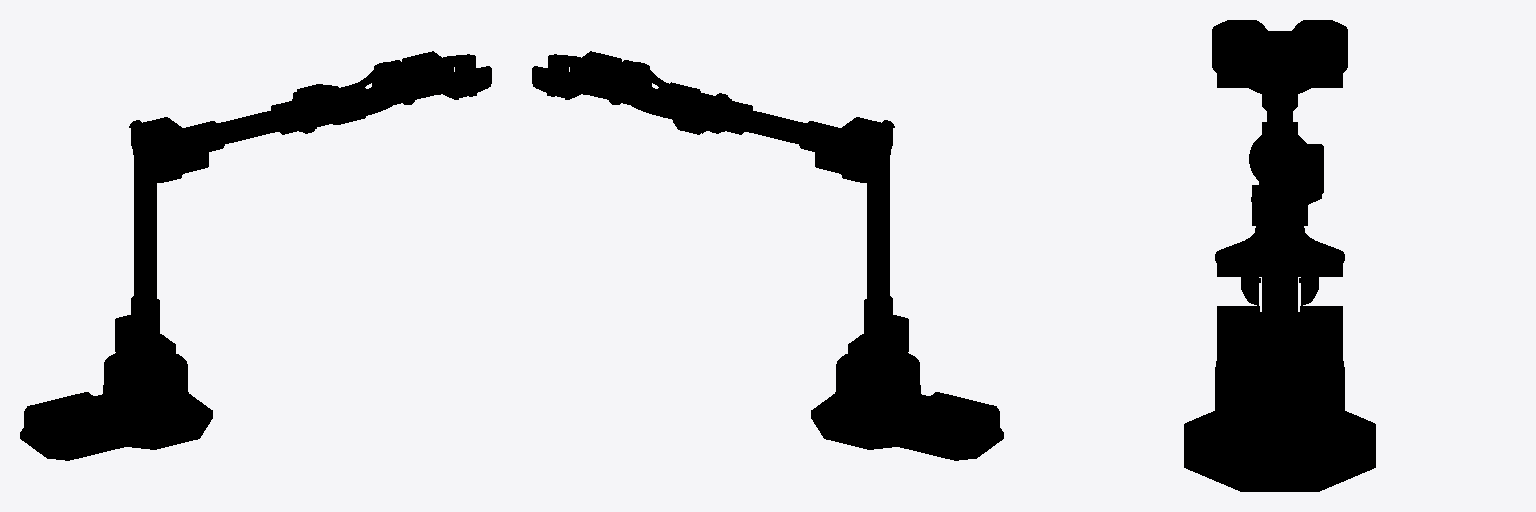
URDF robot description (wx250s):
<robot name="wx250s">
  <material name="interbotix_black">
    <texture filename="package://meshes/interbotix_black.png" />
  </material>
  <link name="wx250s/base_link">
    <visual>
      <origin rpy="0 0 1.5707963267948966" xyz="0 0 0" />
      <geometry>
        <mesh filename="package://meshes/wx250s_meshes/wx250s_1_base.dae" scale="0.001 0.001 0.001" />
      </geometry>
      <material name="interbotix_black" />
    </visual>
    <collision>
      <origin rpy="0 0 1.5707963267948966" xyz="0 0 0" />
      <geometry>
        <mesh filename="package://meshes/wx250s_meshes/wx250s_1_base.dae" scale="0.001 0.001 0.001" />
      </geometry>
    </collision>
    <inertial>
      <origin rpy="0 0 1.5707963267948966" xyz="-0.0380446000 0.0006138920 0.0193354000" />
      <mass value="0.538736" />
      <inertia ixx="0.0021150000" ixy="-0.0000163500" ixz="0.0000006998" iyy="0.0006921000" iyz="0.0000464200" izz="0.0025240000" />
    </inertial>
  </link>
  <joint name="waist" type="revolute">
    <axis xyz="0 0 1" />
    <limit effort="10" lower="-3.141582653589793" upper="3.141582653589793" velocity="3.141592653589793" />
    <origin rpy="0 0 0" xyz="0 0 0.072" />
    <parent link="wx250s/base_link" />
    <child link="wx250s/shoulder_link" />
    <dynamics friction="0.1" />
  </joint>
  <transmission name="trans_waist">
    <type>transmission_interface/SimpleTransmission</type>
    <joint name="waist">
      <hardwareInterface>hardware_interface/EffortJointInterface</hardwareInterface>
    </joint>
    <actuator name="waist_motor">
      <mechanicalReduction>1</mechanicalReduction>
    </actuator>
  </transmission>
  <link name="wx250s/shoulder_link">
    <visual>
      <origin rpy="0 0 1.5707963267948966" xyz="0 0 -0.003" />
      <geometry>
        <mesh filename="package://meshes/wx250s_meshes/wx250s_2_shoulder.dae" scale="0.001 0.001 0.001" />
      </geometry>
      <material name="interbotix_black" />
    </visual>
    <collision>
      <origin rpy="0 0 1.5707963267948966" xyz="0 0 -0.003" />
      <geometry>
        <mesh filename="package://meshes/wx250s_meshes/wx250s_2_shoulder.dae" scale="0.001 0.001 0.001" />
      </geometry>
    </collision>
    <inertial>
      <origin rpy="0 0 1.5707963267948966" xyz="0.0000223482 0.0000414609 0.0066287000" />
      <mass value="0.480879" />
      <inertia ixx="0.0003790000" ixy="0.0000000022" ixz="-0.0000003561" iyy="0.0005557000" iyz="0.0000012245" izz="0.0005889000" />
    </inertial>
  </link>
  <joint name="shoulder" type="revolute">
    <axis xyz="0 1 0" />
    <limit effort="20" lower="-1.8849555921538759" upper="1.9896753472735358" velocity="3.141592653589793" />
    <origin rpy="0 0 0" xyz="0 0 0.03865" />
    <parent link="wx250s/shoulder_link" />
    <child link="wx250s/upper_arm_link" />
    <dynamics friction="0.1" />
  </joint>
  <transmission name="trans_shoulder">
    <type>transmission_interface/SimpleTransmission</type>
    <joint name="shoulder">
      <hardwareInterface>hardware_interface/EffortJointInterface</hardwareInterface>
    </joint>
    <actuator name="shoulder_motor">
      <mechanicalReduction>1</mechanicalReduction>
    </actuator>
  </transmission>
  <link name="wx250s/upper_arm_link">
    <visual>
      <origin rpy="0 0 1.5707963267948966" xyz="0 0 0" />
      <geometry>
        <mesh filename="package://meshes/wx250s_meshes/wx250s_3_upper_arm.dae" scale="0.001 0.001 0.001" />
      </geometry>
      <material name="interbotix_black" />
    </visual>
    <collision>
      <origin rpy="0 0 1.5707963267948966" xyz="0 0 0" />
      <geometry>
        <mesh filename="package://meshes/wx250s_meshes/wx250s_3_upper_arm.dae" scale="0.001 0.001 0.001" />
      </geometry>
    </collision>
    <inertial>
      <origin rpy="0 0 1.5707963267948966" xyz="0.0171605000 0.0000002725 0.1913230000" />
      <mass value="0.430811" />
      <inertia ixx="0.0034630000" ixy="-0.0000000001" ixz="-0.0000000002" iyy="0.0035870000" iyz="0.0004272000" izz="0.0004566000" />
    </inertial>
  </link>
  <joint name="elbow" type="revolute">
    <axis xyz="0 1 0" />
    <limit effort="15" lower="-2.1467549799530254" upper="1.6057029118347832" velocity="3.141592653589793" />
    <origin rpy="0 0 0" xyz="0.04975 0 0.25" />
    <parent link="wx250s/upper_arm_link" />
    <child link="wx250s/upper_forearm_link" />
    <dynamics friction="0.1" />
  </joint>
  <transmission name="trans_elbow">
    <type>transmission_interface/SimpleTransmission</type>
    <joint name="elbow">
      <hardwareInterface>hardware_interface/EffortJointInterface</hardwareInterface>
    </joint>
    <actuator name="elbow_motor">
      <mechanicalReduction>1</mechanicalReduction>
    </actuator>
  </transmission>
  <link name="wx250s/upper_forearm_link">
    <visual>
      <origin rpy="0 0 0" xyz="0 0 0" />
      <geometry>
        <mesh filename="package://meshes/wx250s_meshes/wx250s_4_upper_forearm.dae" scale="0.001 0.001 0.001" />
      </geometry>
      <material name="interbotix_black" />
    </visual>
    <collision>
      <origin rpy="0 0 0" xyz="0 0 0" />
      <geometry>
        <mesh filename="package://meshes/wx250s_meshes/wx250s_4_upper_forearm.dae" scale="0.001 0.001 0.001" />
      </geometry>
    </collision>
    <inertial>
      <origin rpy="0 0 0" xyz="0.1079630000 0.0001158760 0" />
      <mass value="0.234589" />
      <inertia ixx="0.0000397100" ixy="0.0000023528" ixz="0" iyy="0.0008878000" iyz="0" izz="0.0008880000" />
    </inertial>
  </link>
  <joint name="forearm_roll" type="revolute">
    <axis xyz="1 0 0" />
    <limit effort="2" lower="-3.141582653589793" upper="3.141582653589793" velocity="3.141592653589793" />
    <origin rpy="0 0 0" xyz="0.175 0 0" />
    <parent link="wx250s/upper_forearm_link" />
    <child link="wx250s/lower_forearm_link" />
    <dynamics friction="0.1" />
  </joint>
  <transmission name="trans_forearm_roll">
    <type>transmission_interface/SimpleTransmission</type>
    <joint name="forearm_roll">
      <hardwareInterface>hardware_interface/EffortJointInterface</hardwareInterface>
    </joint>
    <actuator name="forearm_roll_motor">
      <mechanicalReduction>1</mechanicalReduction>
    </actuator>
  </transmission>
  <link name="wx250s/lower_forearm_link">
    <visual>
      <origin rpy="3.141592653589793 0 0" xyz="0 0 0" />
      <geometry>
        <mesh filename="package://meshes/wx250s_meshes/wx250s_5_lower_forearm.dae" scale="0.001 0.001 0.001" />
      </geometry>
      <material name="interbotix_black" />
    </visual>
    <collision>
      <origin rpy="3.141592653589793 0 0" xyz="0 0 0" />
      <geometry>
        <mesh filename="package://meshes/wx250s_meshes/wx250s_5_lower_forearm.dae" scale="0.001 0.001 0.001" />
      </geometry>
    </collision>
    <inertial>
      <origin rpy="3.141592653589793 0 0" xyz="0.0374395000 0.0052225200 0" />
      <mass value="0.220991" />
      <inertia ixx="0.0000636900" ixy="-0.0000229200" ixz="0" iyy="0.0001677000" iyz="0" izz="0.0001834000" />
    </inertial>
  </link>
  <joint name="wrist_angle" type="revolute">
    <axis xyz="0 1 0" />
    <limit effort="5" lower="-1.7453292519943295" upper="2.1467549799530254" velocity="3.141592653589793" />
    <origin rpy="0 0 0" xyz="0.075 0 0" />
    <parent link="wx250s/lower_forearm_link" />
    <child link="wx250s/wrist_link" />
    <dynamics friction="0.1" />
  </joint>
  <transmission name="trans_wrist_angle">
    <type>transmission_interface/SimpleTransmission</type>
    <joint name="wrist_angle">
      <hardwareInterface>hardware_interface/EffortJointInterface</hardwareInterface>
    </joint>
    <actuator name="wrist_angle_motor">
      <mechanicalReduction>1</mechanicalReduction>
    </actuator>
  </transmission>
  <link name="wx250s/wrist_link">
    <visual>
      <origin rpy="0 0 1.5707963267948966" xyz="0 0 0" />
      <geometry>
        <mesh filename="package://meshes/wx250s_meshes/wx250s_6_wrist.dae" scale="0.001 0.001 0.001" />
      </geometry>
      <material name="interbotix_black" />
    </visual>
    <collision>
      <origin rpy="0 0 1.5707963267948966" xyz="0 0 0" />
      <geometry>
        <mesh filename="package://meshes/wx250s_meshes/wx250s_6_wrist.dae" scale="0.001 0.001 0.001" />
      </geometry>
    </collision>
    <inertial>
      <origin rpy="0 0 1.5707963267948966" xyz="0.0423600000 -0.0000106630 0.0105770000" />
      <mass value="0.084957" />
      <inertia ixx="0.0000308200" ixy="0.0000000191" ixz="0.0000000023" iyy="0.0000282200" iyz="0.0000025481" izz="0.0000315200" />
    </inertial>
  </link>
  <joint name="wrist_rotate" type="revolute">
    <axis xyz="1 0 0" />
    <limit effort="1" lower="-3.141582653589793" upper="3.141582653589793" velocity="3.141592653589793" />
    <origin rpy="0 0 0" xyz="0.065 0 0" />
    <parent link="wx250s/wrist_link" />
    <child link="wx250s/gripper_link" />
    <dynamics friction="0.1" />
  </joint>
  <transmission name="trans_wrist_rotate">
    <type>transmission_interface/SimpleTransmission</type>
    <joint name="wrist_rotate">
      <hardwareInterface>hardware_interface/EffortJointInterface</hardwareInterface>
    </joint>
    <actuator name="wrist_rotate_motor">
      <mechanicalReduction>1</mechanicalReduction>
    </actuator>
  </transmission>
  <link name="wx250s/gripper_link">
    <visual>
      <origin rpy="0 0 1.5707963267948966" xyz="-0.02 0 0" />
      <geometry>
        <mesh filename="package://meshes/wx250s_meshes/wx250s_7_gripper.dae" scale="0.001 0.001 0.001" />
      </geometry>
      <material name="interbotix_black" />
    </visual>
    <collision>
      <origin rpy="0 0 1.5707963267948966" xyz="-0.02 0 0" />
      <geometry>
        <mesh filename="package://meshes/wx250s_meshes/wx250s_7_gripper.dae" scale="0.001 0.001 0.001" />
      </geometry>
    </collision>
    <inertial>
      <origin rpy="0 0 1.5707963267948966" xyz="0.0216310000 0.0000002516 0.0114100000" />
      <mass value="0.072885" />
      <inertia ixx="0.0000253700" ixy="0.0000000000" ixz="0.0000000000" iyy="0.0000183600" iyz="0.0000004340" izz="0.0000167400" />
    </inertial>
  </link>
  <joint name="ee_arm" type="fixed">
    <axis xyz="1 0 0" />
    <origin rpy="0 0 0" xyz="0.043 0 0" />
    <parent link="wx250s/gripper_link" />
    <child link="wx250s/ee_arm_link" />
  </joint>
  <link name="wx250s/ee_arm_link">
    <inertial>
      <mass value="0.001" />
      <inertia ixx="0.001" ixy="0" ixz="0" iyy="0.001" iyz="0" izz="0.001" />
    </inertial>
  </link>
  <joint name="gripper" type="continuous">
    <axis xyz="1 0 0" />
    <limit effort="1" velocity="3.141592653589793" />
    <origin rpy="0 0 0" xyz="0.0055 0 0" />
    <parent link="wx250s/ee_arm_link" />
    <child link="wx250s/gripper_prop_link" />
    <dynamics friction="0.1" />
  </joint>
  <transmission name="trans_gripper">
    <type>transmission_interface/SimpleTransmission</type>
    <joint name="gripper">
      <hardwareInterface>hardware_interface/EffortJointInterface</hardwareInterface>
    </joint>
    <actuator name="gripper_motor">
      <mechanicalReduction>1</mechanicalReduction>
    </actuator>
  </transmission>
  <link name="wx250s/gripper_prop_link">
    <visual>
      <origin rpy="0 0 1.5707963267948966" xyz="-0.0685 0 0" />
      <geometry>
        <mesh filename="package://meshes/wx250s_meshes/wx250s_8_gripper_prop.dae" scale="0.001 0.001 0.001" />
      </geometry>
      <material name="interbotix_black" />
    </visual>
    <collision>
      <origin rpy="0 0 1.5707963267948966" xyz="-0.0685 0 0" />
      <geometry>
        <mesh filename="package://meshes/wx250s_meshes/wx250s_8_gripper_prop.dae" scale="0.001 0.001 0.001" />
      </geometry>
    </collision>
    <inertial>
      <origin rpy="0 0 1.5707963267948966" xyz="0.0008460000 -0.0000016817 0.0000420000" />
      <mass value="0.00434" />
      <inertia ixx="0.0000005923" ixy="0.0000000000" ixz="0.0000003195" iyy="0.0000011156" iyz="-0.0000000004" izz="0.0000005743" />
    </inertial>
  </link>
  
  
  <joint name="gripper_bar" type="fixed">
    <axis xyz="1 0 0" />
    <origin rpy="0 0 0" xyz="0 0 0" />
    <parent link="wx250s/ee_arm_link" />
    <child link="wx250s/gripper_bar_link" />
  </joint>
  <link name="wx250s/gripper_bar_link">
    <visual>
      <origin rpy="0 0 1.5707963267948966" xyz="-0.063 0 0" />
      <geometry>
        <mesh filename="package://meshes/wx250s_meshes/wx250s_9_gripper_bar.dae" scale="0.001 0.001 0.001" />
      </geometry>
      <material name="interbotix_black" />
    </visual>
    <collision>
      <origin rpy="0 0 1.5707963267948966" xyz="-0.063 0 0" />
      <geometry>
        <mesh filename="package://meshes/wx250s_meshes/wx250s_9_gripper_bar.dae" scale="0.001 0.001 0.001" />
      </geometry>
    </collision>
    <inertial>
      <origin rpy="0 0 1.5707963267948966" xyz="0.0096870000 0.0000008177 0.0049620000" />
      <mass value="0.034199" />
      <inertia ixx="0.0000074125" ixy="-0.0000000008" ixz="-0.0000000006" iyy="0.0000284300" iyz="-0.0000013889" izz="0.0000286000" />
    </inertial>
  </link>
  <joint name="ee_bar" type="fixed">
    <axis xyz="1 0 0" />
    <origin rpy="0 0 0" xyz="0.023 0 0" />
    <parent link="wx250s/gripper_bar_link" />
    <child link="wx250s/fingers_link" />
  </joint>
  <link name="wx250s/fingers_link">
    <inertial>
      <mass value="0.001" />
      <inertia ixx="0.001" ixy="0" ixz="0" iyy="0.001" iyz="0" izz="0.001" />
    </inertial>
  </link>
  
  <joint name="left_finger" type="prismatic">
    <axis xyz="0 1 0" />
    <limit effort="5" lower="0.015" upper="0.037" velocity="1" />
    <origin rpy="0 0 0" xyz="0 0 0" />
    <parent link="wx250s/fingers_link" />
    <child link="wx250s/left_finger_link" />
    <dynamics friction="0.1" />
  </joint>
  <transmission name="trans_left_finger">
    <type>transmission_interface/SimpleTransmission</type>
    <joint name="left_finger">
      <hardwareInterface>hardware_interface/EffortJointInterface</hardwareInterface>
    </joint>
    <actuator name="left_finger_motor">
      <mechanicalReduction>1</mechanicalReduction>
    </actuator>
  </transmission>
  <link name="wx250s/left_finger_link">
    <visual>
      <origin rpy="3.141592653589793 3.141592653589793 0" xyz="0 0.005 0" />
      <geometry>
        <mesh filename="package://meshes/wx250s_meshes/wx250s_10_gripper_finger.dae" scale="0.001 0.001 0.001" />
      </geometry>
      <material name="interbotix_black" />
    </visual>
    <collision>
      <origin rpy="3.141592653589793 3.141592653589793 0" xyz="0 0.005 0" />
      <geometry>
        <mesh filename="package://meshes/wx250s_meshes/wx250s_10_gripper_finger.dae" scale="0.001 0.001 0.001" />
      </geometry>
    </collision>
    <inertial>
      <origin rpy="3.141592653589793 3.141592653589793 1.5707963267948966" xyz="0.0138160000 0.0000000000 0.0000000000" />
      <mass value="0.016246" />
      <inertia ixx="0.0000047310" ixy="-0.0000004560" ixz="0.0000000000" iyy="0.0000015506" iyz="0.0000000000" izz="0.0000037467" />
    </inertial>
  </link>
  <joint name="right_finger" type="prismatic">
    <axis xyz="0 1 0" />
    <limit effort="5" lower="-0.037" upper="-0.015" velocity="1" />
    <origin rpy="0 0 0" xyz="0 0 0" />
    <parent link="wx250s/fingers_link" />
    <child link="wx250s/right_finger_link" />
    <dynamics friction="0.1" />
    <mimic joint="left_finger" multiplier="-1" offset="0" />
  </joint>
  <transmission name="trans_right_finger">
    <type>transmission_interface/SimpleTransmission</type>
    <joint name="right_finger">
      <hardwareInterface>hardware_interface/EffortJointInterface</hardwareInterface>
    </joint>
    <actuator name="right_finger_motor">
      <mechanicalReduction>1</mechanicalReduction>
    </actuator>
  </transmission>
  <link name="wx250s/right_finger_link">
    <visual>
      <origin rpy="0 3.141592653589793 0" xyz="0 -0.005 0" />
      <geometry>
        <mesh filename="package://meshes/wx250s_meshes/wx250s_10_gripper_finger.dae" scale="0.001 0.001 0.001" />
      </geometry>
      <material name="interbotix_black" />
    </visual>
    <collision>
      <origin rpy="0 3.141592653589793 0" xyz="0 -0.005 0" />
      <geometry>
        <mesh filename="package://meshes/wx250s_meshes/wx250s_10_gripper_finger.dae" scale="0.001 0.001 0.001" />
      </geometry>
    </collision>
    <inertial>
      <origin rpy="0 3.141592653589793 1.5707963267948966" xyz="0.0138160000 0.0000000000  0.0000000000" />
      <mass value="0.016246" />
      <inertia ixx="0.0000047310" ixy="0.0000004560" ixz="0.0000000000" iyy="0.0000015506" iyz="0.0000000000" izz="0.0000037467" />
    </inertial>
  </link>
  <joint name="ee_gripper" type="fixed">
    <axis xyz="1 0 0" />
    <origin rpy="0 0 0" xyz="0.027575 0 0" />
    <parent link="wx250s/fingers_link" />
    <child link="wx250s/ee_gripper_link" />
  </joint>
  <link name="wx250s/ee_gripper_link">
    <inertial>
      <mass value="0.001" />
      <inertia ixx="0.001" ixy="0" ixz="0" iyy="0.001" iyz="0" izz="0.001" />
    </inertial>
  </link>
</robot>

--- Facts derived from the render (not from the file) ---
Views: 3 orthographic renders of the robot side by side, from view 1: azimuth 30°, elevation 25°; view 2: azimuth 150°, elevation 25°; view 3: azimuth 270°, elevation 25°.
Robot: wx250s — 14 links, 13 joints (6 revolute, 1 continuous, 2 prismatic, 4 fixed); root link wx250s/base_link; default pose: all joints at 0 but 2 set to mid-range because 0 is outside their limits (left_finger = 0.026, right_finger = -0.026).
Links seen in each view (by area): view 1: wx250s/base_link, wx250s/upper_arm_link, wx250s/shoulder_link, wx250s/upper_forearm_link, wx250s/lower_forearm_link, wx250s/wrist_link, wx250s/gripper_link, wx250s/right_finger_link, wx250s/gripper_bar_link; view 2: wx250s/base_link, wx250s/upper_arm_link, wx250s/shoulder_link, wx250s/upper_forearm_link, wx250s/lower_forearm_link, wx250s/wrist_link, wx250s/gripper_link, wx250s/left_finger_link, wx250s/gripper_bar_link; view 3: wx250s/base_link, wx250s/upper_arm_link, wx250s/shoulder_link, wx250s/gripper_bar_link, wx250s/lower_forearm_link, wx250s/upper_forearm_link, wx250s/wrist_link, wx250s/left_finger_link, wx250s/right_finger_link, wx250s/gripper_link.
Boxes of the visible links, x1,y1,x2,y2 form: wx250s/base_link: (20,369,212,460); wx250s/upper_arm_link: (129,117,208,350); wx250s/shoulder_link: (104,315,187,385); wx250s/upper_forearm_link: (167,97,311,151); wx250s/lower_forearm_link: (293,83,373,133); wx250s/wrist_link: (355,60,413,115); wx250s/gripper_link: (402,52,441,104); wx250s/right_finger_link: (453,66,491,97); wx250s/gripper_bar_link: (432,51,476,99); wx250s/base_link: (811,369,1003,460); wx250s/upper_arm_link: (815,117,894,350); wx250s/shoulder_link: (836,315,919,385); wx250s/upper_forearm_link: (712,97,856,151); wx250s/lower_forearm_link: (650,82,728,134); wx250s/wrist_link: (610,60,668,115); wx250s/gripper_link: (582,52,621,104); wx250s/left_finger_link: (532,66,570,97); wx250s/gripper_bar_link: (547,51,591,99); wx250s/base_link: (1184,338,1375,491); wx250s/upper_arm_link: (1212,20,1347,342); wx250s/shoulder_link: (1216,306,1343,395); wx250s/gripper_bar_link: (1215,217,1344,276); wx250s/lower_forearm_link: (1249,130,1323,204); wx250s/upper_forearm_link: (1262,48,1297,134); wx250s/wrist_link: (1252,175,1307,228); wx250s/left_finger_link: (1299,249,1318,305); wx250s/right_finger_link: (1241,249,1260,305); wx250s/gripper_link: (1255,194,1304,231).
Bounding box of the posed robot: 0.6309 × 0.1531 × 0.3959 m (x, y, z).
11 mesh visuals loaded from 10 distinct referenced files (10 Collada DAE).
